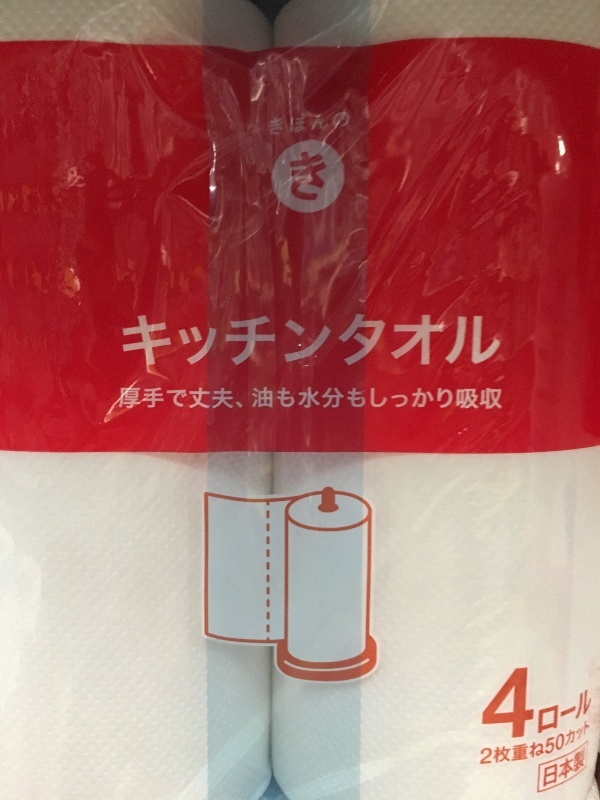text: (497, 667, 512, 742), (513, 667, 528, 742), (482, 667, 496, 742), (129, 313, 144, 375), (145, 313, 160, 375), (161, 313, 176, 375), (177, 313, 192, 375), (193, 313, 208, 375), (209, 313, 224, 375), (225, 313, 240, 375), (241, 313, 256, 375), (257, 313, 272, 375), (273, 313, 288, 375), (289, 313, 304, 375), (305, 313, 320, 375), (321, 313, 336, 375), (337, 313, 352, 375), (353, 313, 368, 375), (369, 313, 384, 375), (385, 313, 400, 375), (401, 313, 416, 375), (417, 313, 432, 375), (433, 313, 448, 375), (449, 313, 464, 375), (465, 313, 480, 375), (481, 313, 496, 375), (289, 145, 304, 206), (305, 145, 320, 206), (481, 718, 496, 772), (497, 718, 512, 772), (513, 718, 528, 772), (529, 718, 544, 772), (545, 718, 560, 772), (561, 718, 576, 772), (545, 687, 560, 738), (561, 687, 576, 738), (577, 687, 592, 738), (577, 718, 590, 772), (545, 748, 560, 791), (561, 748, 576, 791), (529, 667, 536, 742), (257, 383, 272, 413), (273, 383, 288, 413), (289, 383, 304, 413), (305, 383, 320, 413), (321, 383, 336, 413), (337, 383, 352, 413), (353, 383, 368, 413), (369, 383, 384, 413), (385, 383, 400, 413), (401, 383, 416, 413), (417, 383, 432, 413), (433, 383, 448, 413), (449, 383, 464, 413), (465, 383, 480, 413), (481, 383, 496, 413), (273, 110, 288, 139), (289, 110, 304, 139), (305, 110, 320, 139), (321, 110, 336, 139), (121, 313, 128, 375), (497, 313, 504, 375), (337, 110, 351, 139), (129, 386, 144, 411), (145, 386, 160, 411), (161, 386, 176, 411), (177, 386, 192, 411), (193, 386, 208, 411), (209, 386, 224, 411), (225, 386, 240, 411), (321, 145, 327, 206), (577, 748, 585, 791), (539, 687, 544, 738), (120, 386, 128, 411), (497, 383, 503, 413), (252, 383, 256, 413), (268, 110, 272, 139), (241, 386, 245, 411)
